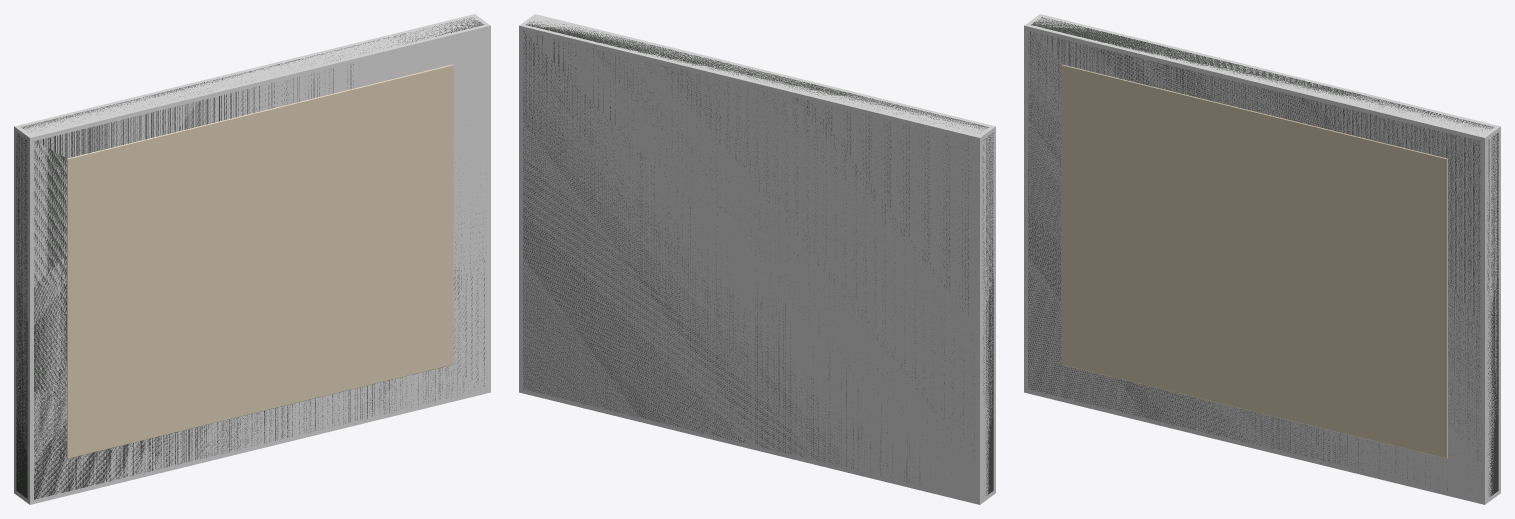
File: wall-art_basic.glb
3 renders of one model, left to right at view 1: azimuth 30°, elevation 25°; view 2: azimuth 150°, elevation 25°; view 3: azimuth 330°, elevation 25°, orthographic.
Parts seen in each view (by area): view 1: MESH_Inset, COL_wall-art, MESH_Frame; view 2: COL_wall-art, MESH_Frame; view 3: MESH_Inset, COL_wall-art, MESH_Frame.
Part boxes in pixels (<box>): MESH_Inset: <box>67,64,453,458</box>; COL_wall-art: <box>14,14,490,504</box>; MESH_Frame: <box>16,17,486,499</box>; COL_wall-art: <box>519,14,995,504</box>; MESH_Frame: <box>523,20,993,495</box>; MESH_Inset: <box>1061,64,1447,458</box>; COL_wall-art: <box>1024,14,1500,504</box>; MESH_Frame: <box>1028,17,1498,496</box>.
Size of the model in its own units: 0.92 by 0.7 by 0.0561.
